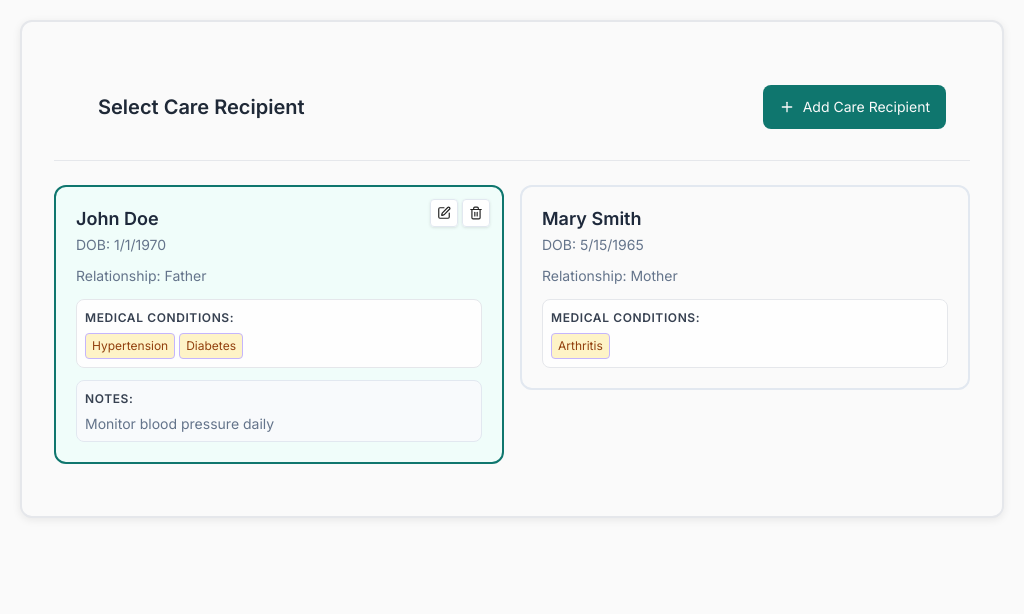
Test: CareRecipientSelector › adds and removes medical conditions dynamically
// Click Edit button (which appears on selected card)
Click the button titled "Edit recipient": (444, 213) [430,199,458,227]
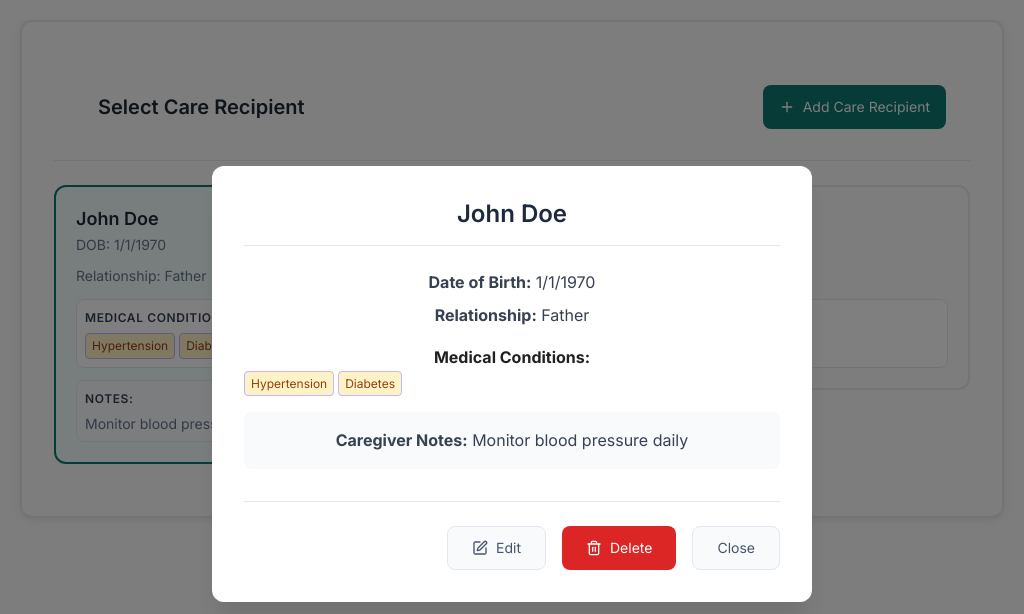
// Click the Edit button in the modal to access edit form
Click the button "Edit": (496, 548) [447,526,546,570]
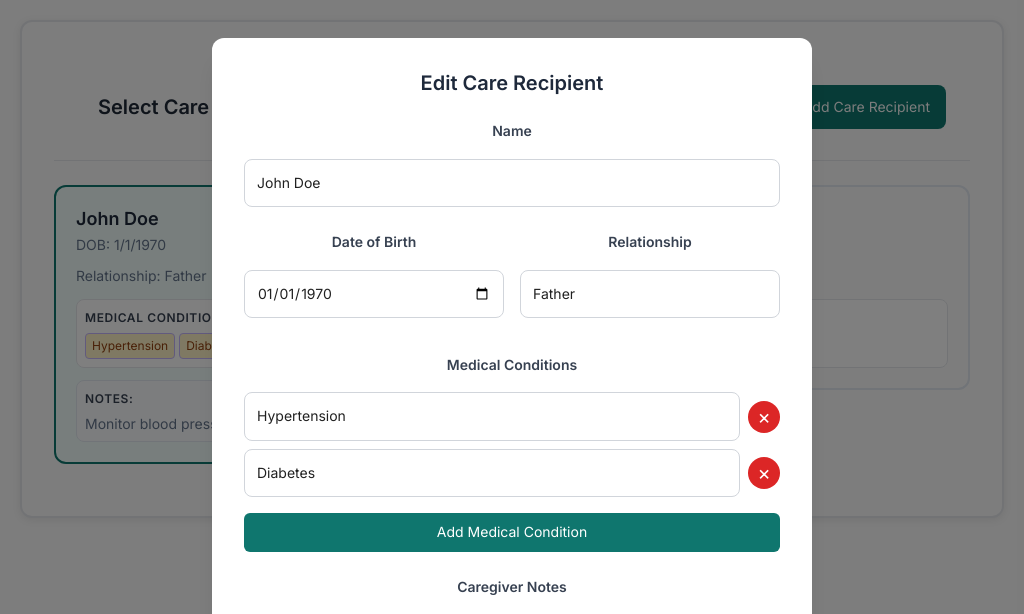
Now the 3rd field showing "Hypertension" is shown, box [244,392,740,441]
Now the 4th field showing "Diabetes" is shown, box [244,449,740,497]
// Add a new condition
Click the button "Add Medical Condition": (512, 532) [244,513,780,552]
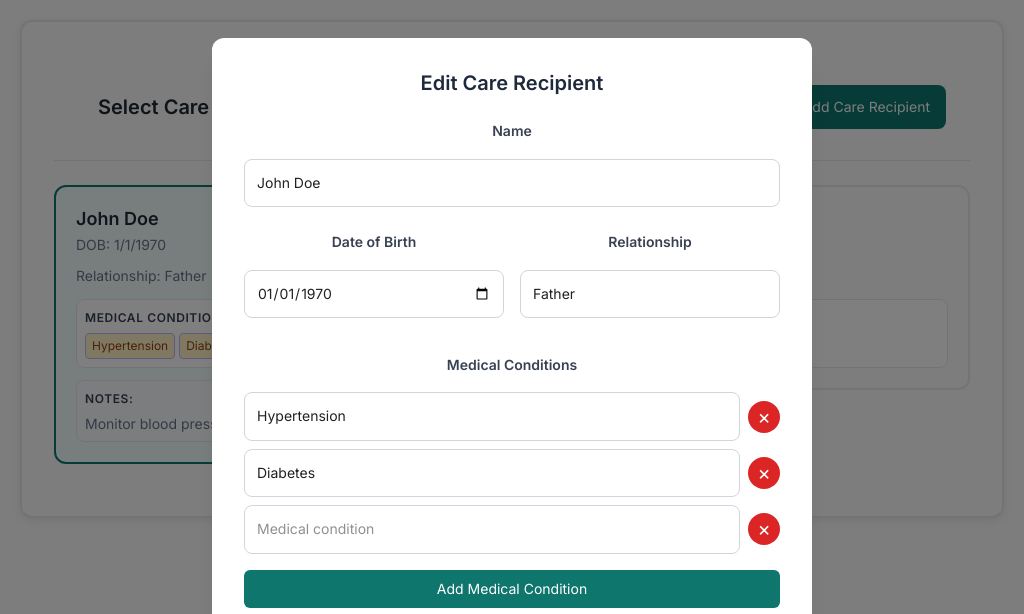
Now the number of fields with placeholder "Medical condition" is 3, box [244,392,740,441]; [244,449,740,497]; [244,505,740,554]
// Remove a condition
Click the 1st button "×": (764, 416) [748,400,780,432]
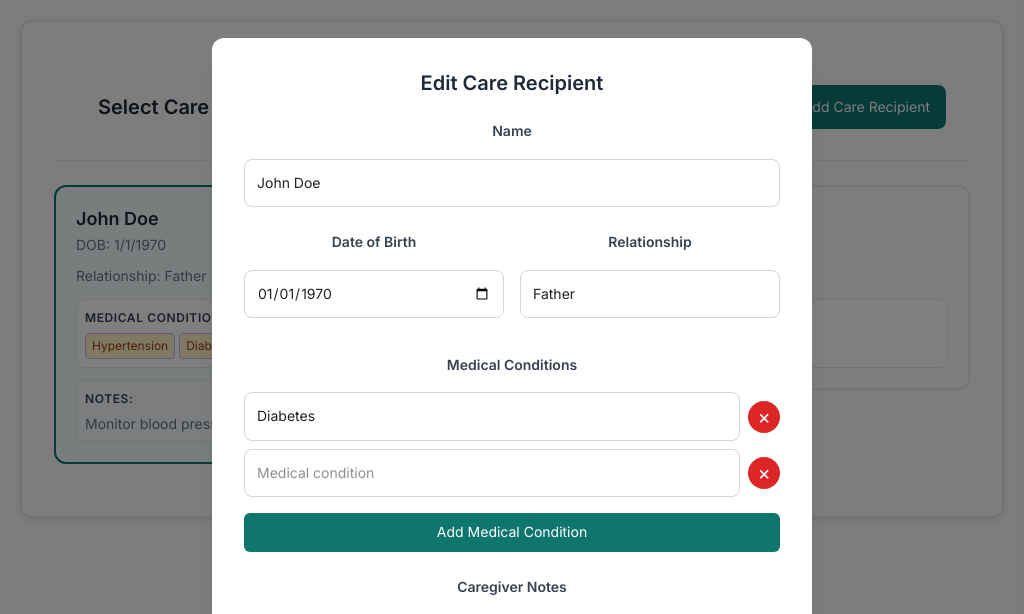
Now the number of fields with placeholder "Medical condition" is 2, box [244,392,740,441]; [244,449,740,497]
